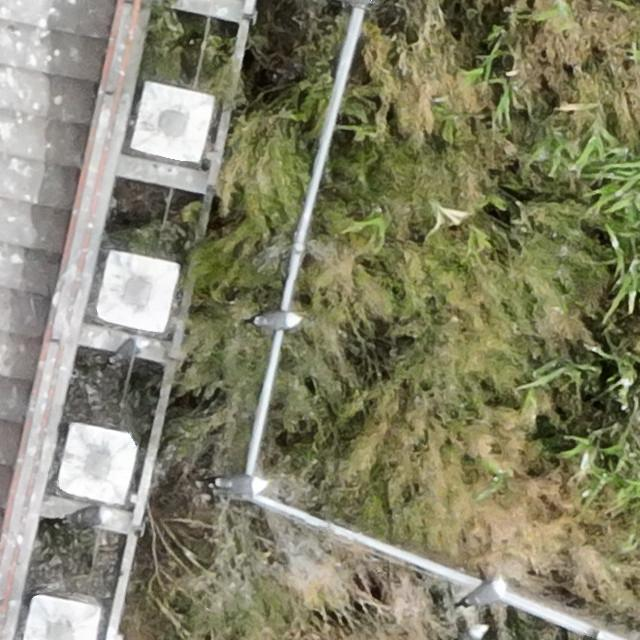umineko: (217, 474, 267, 499), (464, 579, 506, 608), (260, 312, 298, 330)
